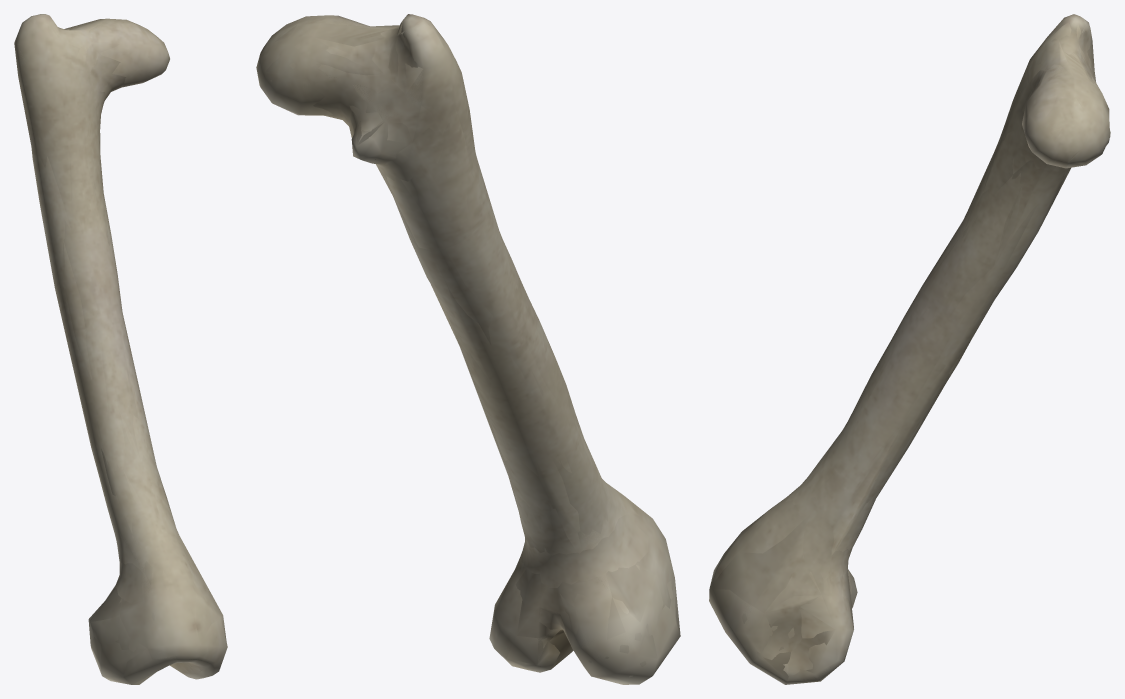
File: R Femur.fbx
3 views of the same model, side by side, from view 1: azimuth 30°, elevation 25°; view 2: azimuth 150°, elevation 25°; view 3: azimuth 270°, elevation 25° (orthographic). The views are drawn at different scales.
Parts seen in each view (by area): view 1: R Femur, R Femur low, R Femur high; view 2: R Femur, R Femur low, R Femur high; view 3: R Femur, R Femur low, R Femur high.
Boxes of the visible parts, x1,y1,x2,y2 form: R Femur: (14,14,227,684); R Femur low: (15,16,225,684); R Femur high: (23,19,224,670); R Femur: (256,14,680,684); R Femur low: (257,15,680,682); R Femur high: (270,17,673,680); R Femur: (709,14,1110,684); R Femur low: (710,22,1110,680); R Femur high: (741,17,1107,676).
Bounding box in the file's own units: 2.71 × 8.4 × 4.72.
1 material, 1 textured.
